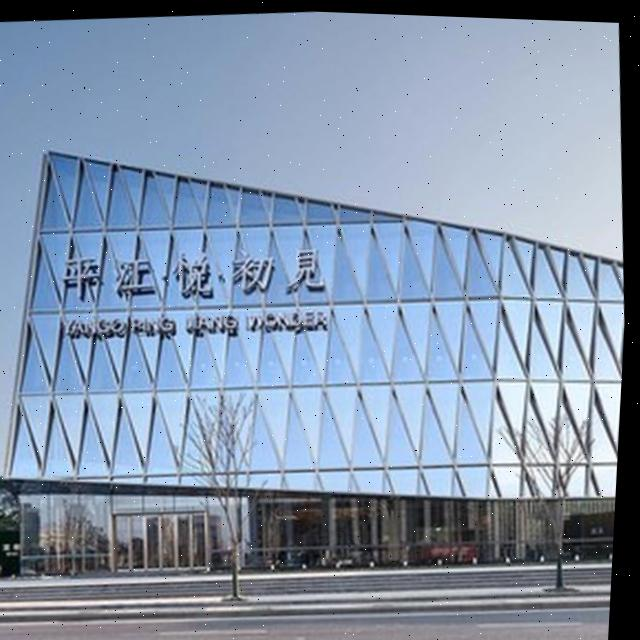building: (0, 105, 635, 604)
